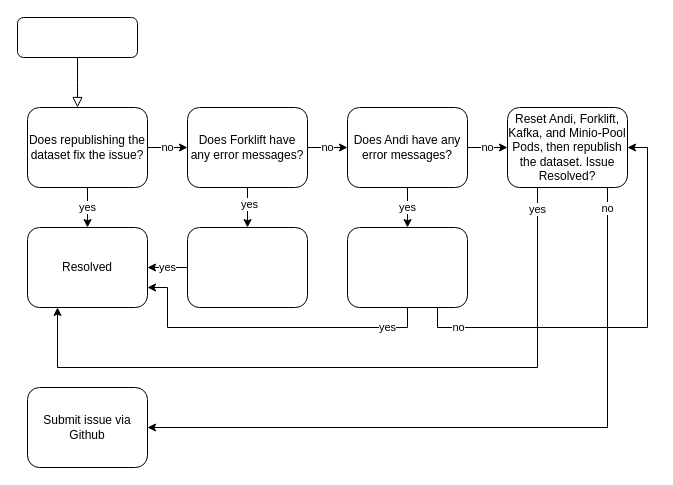
The diagram is 673 pixels wide and 485 high, and some of its shapes have lost their labels. The box of each missing label's shape, as (x1, y1, x2, y2) in pixels:
Is the error covered in Forklift Troubleshooting Section ?: (186, 226, 308, 308)
Is the error covered in the Andi Troubleshooting Section?: (346, 226, 468, 308)
No Columns showing in preview table: (16, 16, 138, 58)
